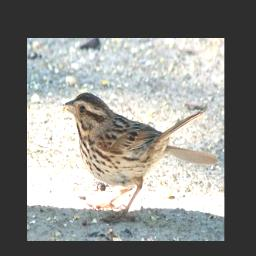Sparrow: (61, 90, 219, 225)
